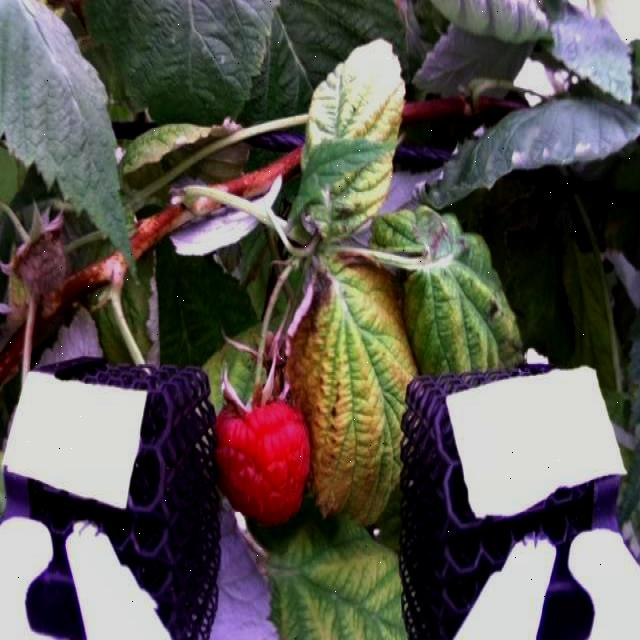Riped berries: (211, 392, 313, 527)
